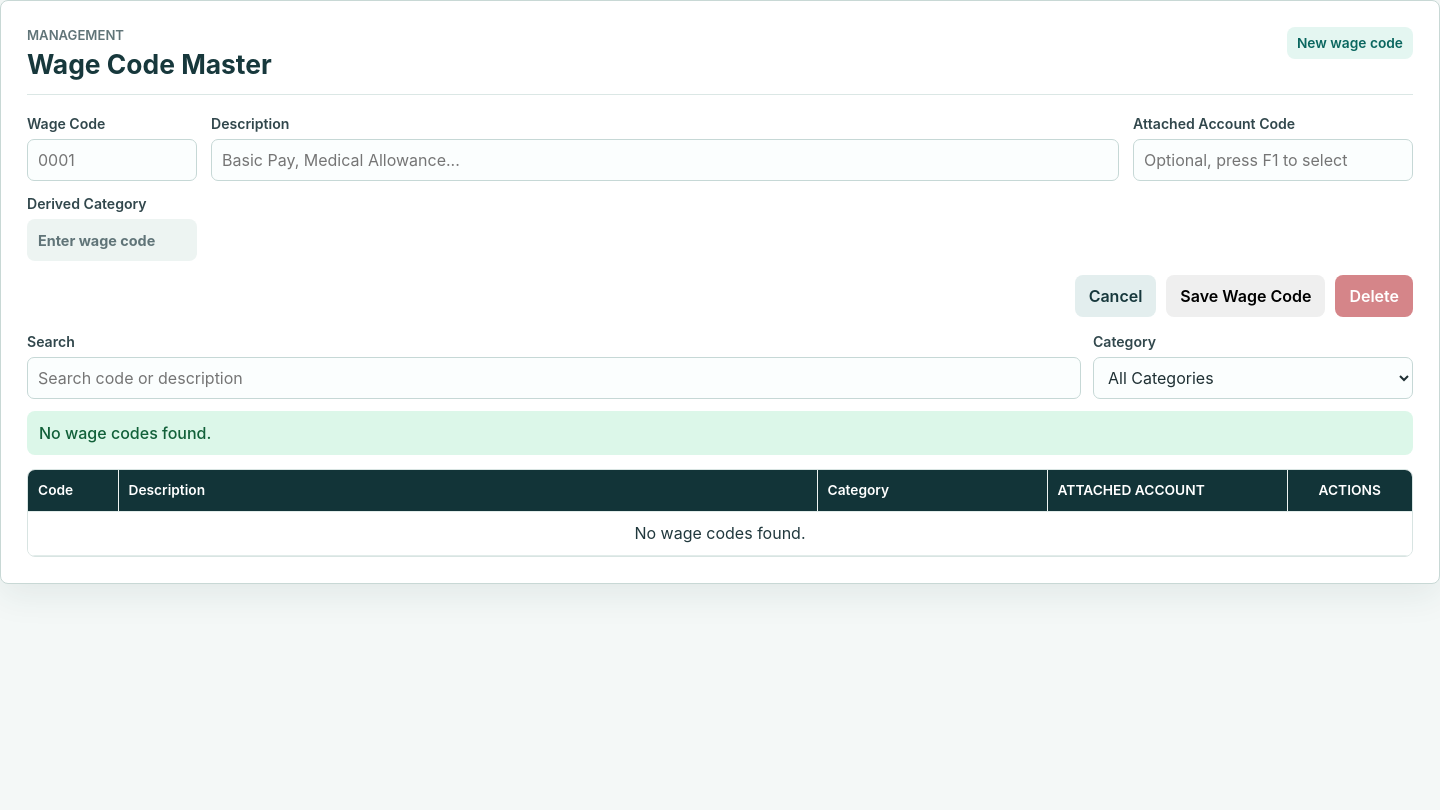
Test: Wage code account lookup › opens account lookup with F1 and selects the highlighted row with arrows and Enter
Step 1. Click the field labelled "Attached Account Code" → (1273, 160), box [1133, 139, 1413, 181]
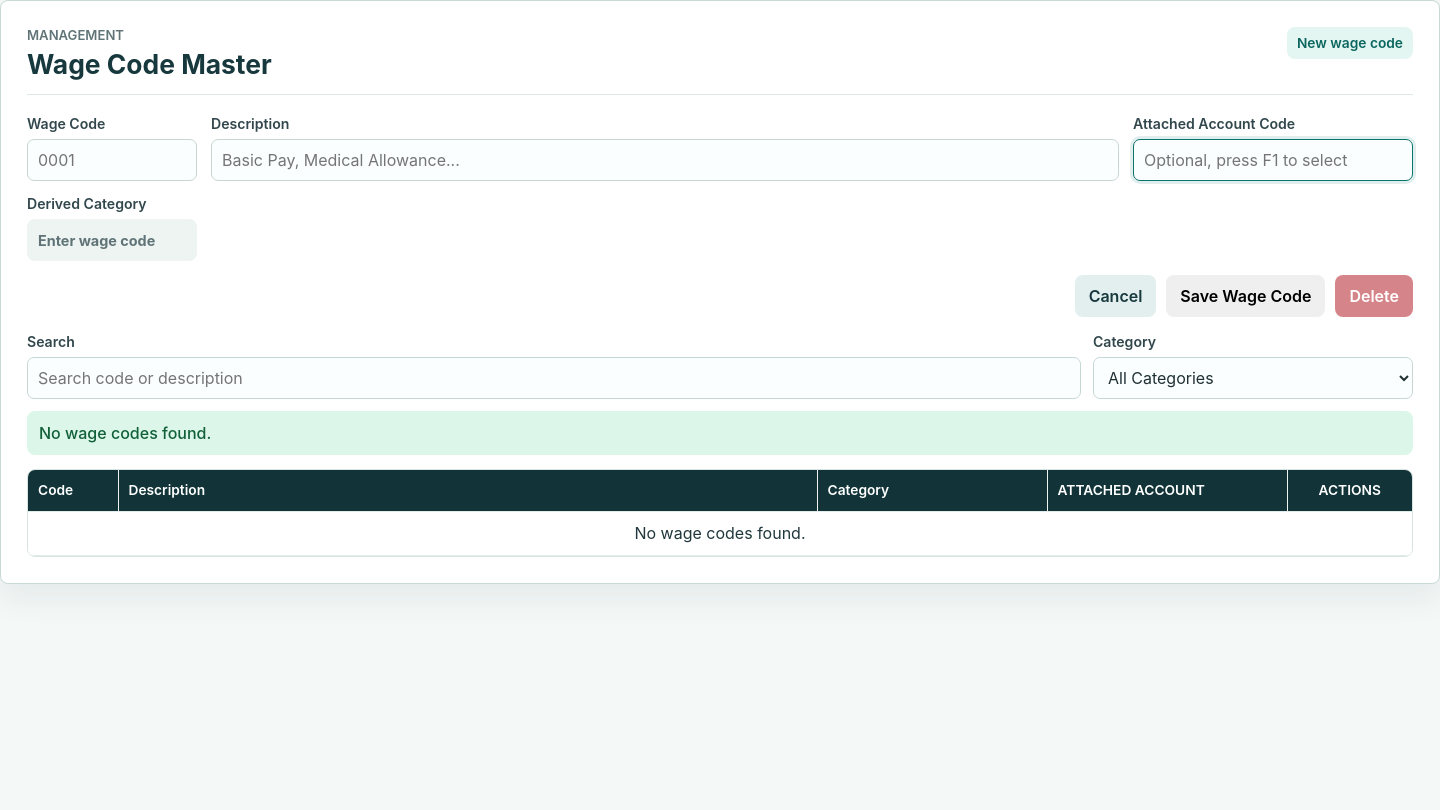
Step 2. Press F1 in the field labelled "Attached Account Code", box [1133, 139, 1413, 181]
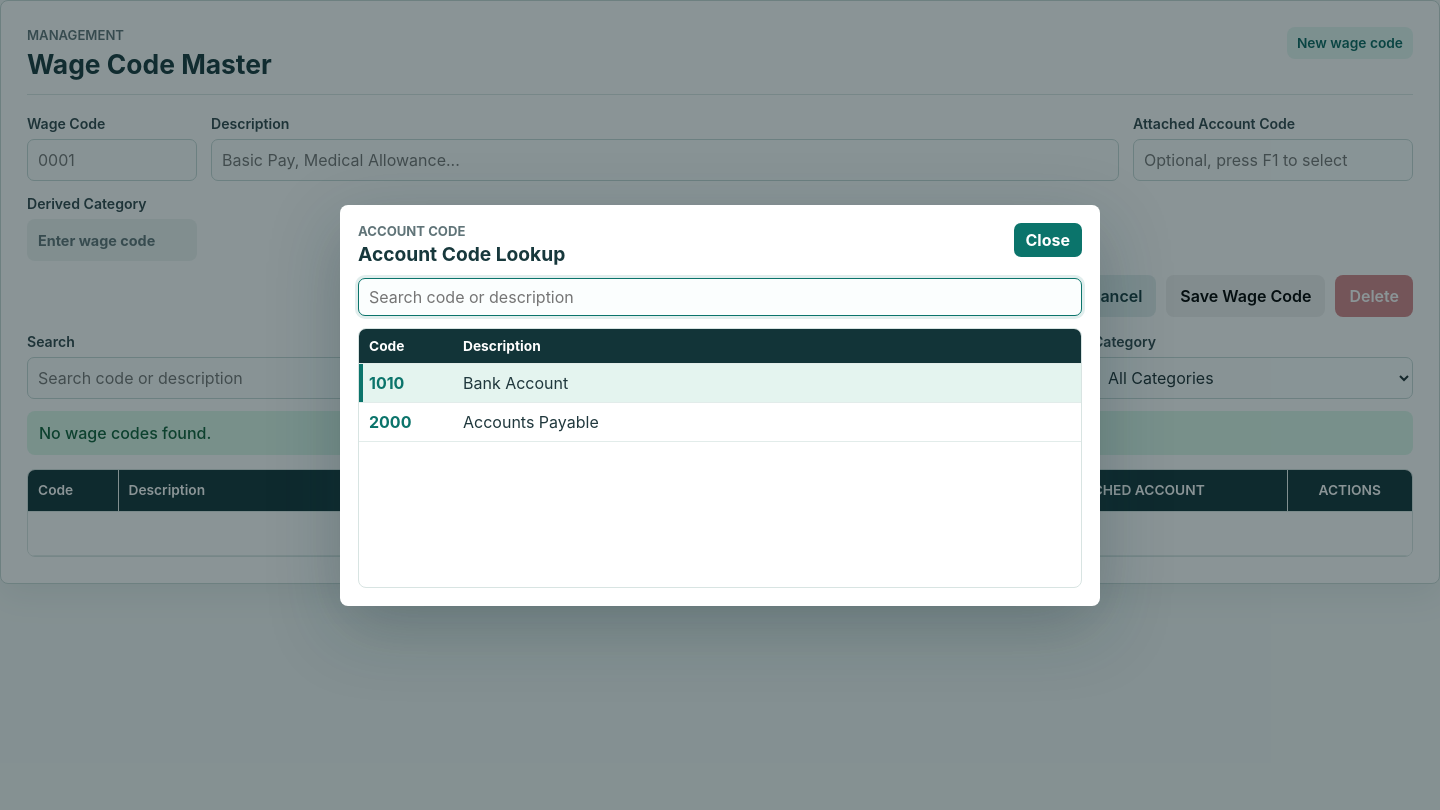
Step 3. Press Arrowdown Enter
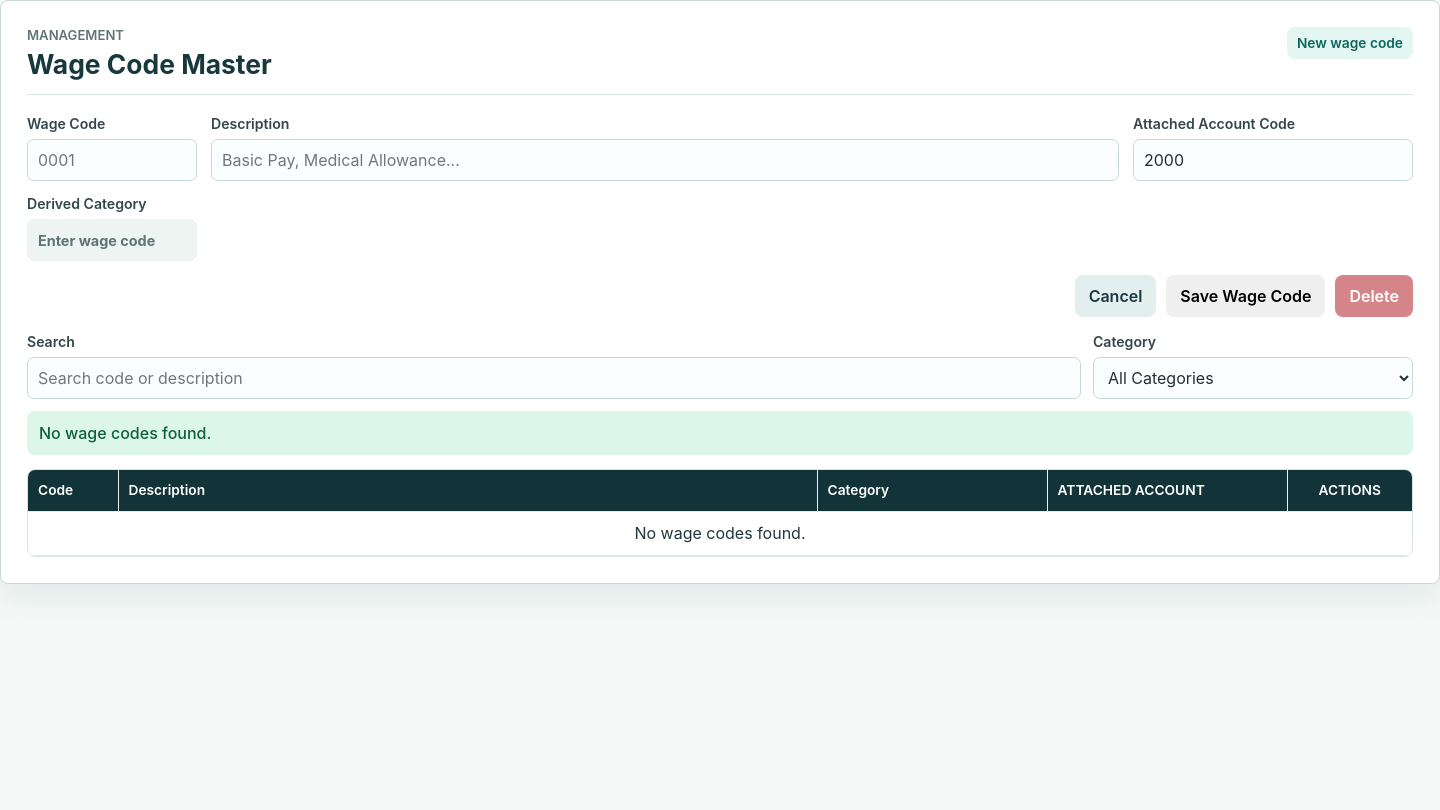
Check: the field labelled "Attached Account Code" holds "2000", box [1133, 139, 1413, 181]
